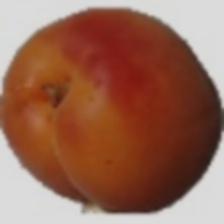apricot: (24, 58, 186, 206)
